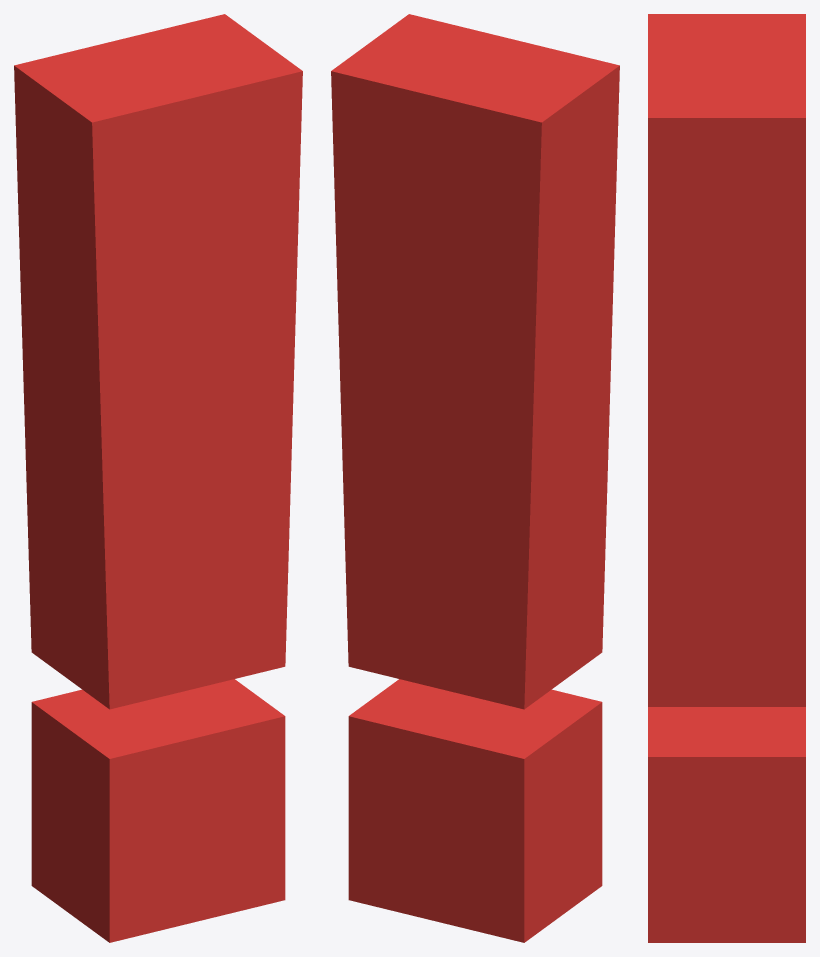
File: red_exclamation_mark.glb
3 renders of one model, left to right at view 1: azimuth 30°, elevation 25°; view 2: azimuth 150°, elevation 25°; view 3: azimuth 270°, elevation 25°, orthographic.
Parts seen in each view (by area): view 1: Cube.6449; view 2: Cube.6449; view 3: Cube.6449.
Boxes of the visible parts, x1,y1,x2,y2 form: Cube.6449: [14, 14, 302, 942]; Cube.6449: [331, 14, 619, 942]; Cube.6449: [648, 14, 805, 942].
Bounding box in the file's own units: 0.5869 × 2.19 × 0.3762.
1 material, 1 textured.
